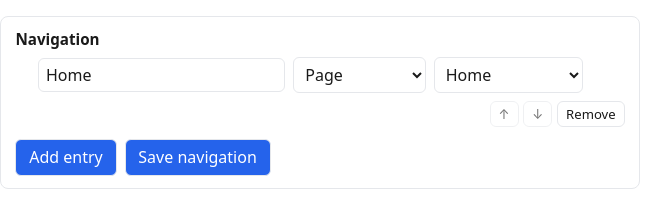
NavigationEditor › switching an entry to external swaps the page select for a url field
Expected: the dropdown named "Entry 1 page" is shown, 434,57 -> 583,93
Step 1. Select "External URL" in the dropdown named "Entry 1 target" → (359, 75), box 293,57 -> 426,93
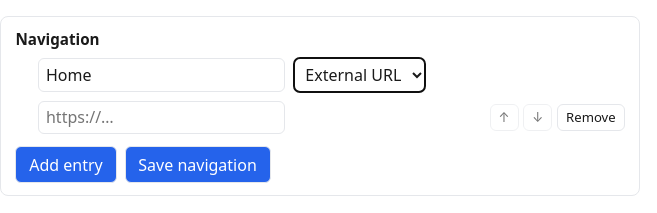
Expected: the field named "Entry 1 url" is shown, 38,101 -> 285,134
